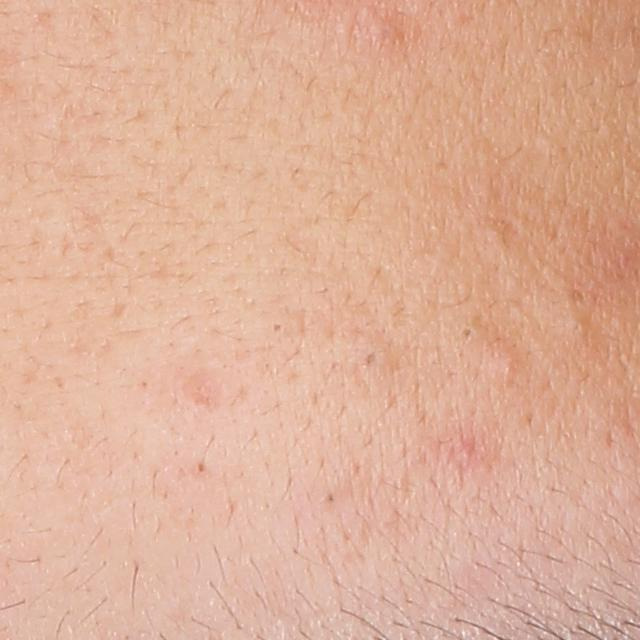comedo: (355, 7, 394, 52), (490, 348, 523, 384), (356, 348, 380, 373), (565, 315, 590, 337), (267, 320, 286, 338), (458, 323, 475, 343), (195, 459, 209, 477)
